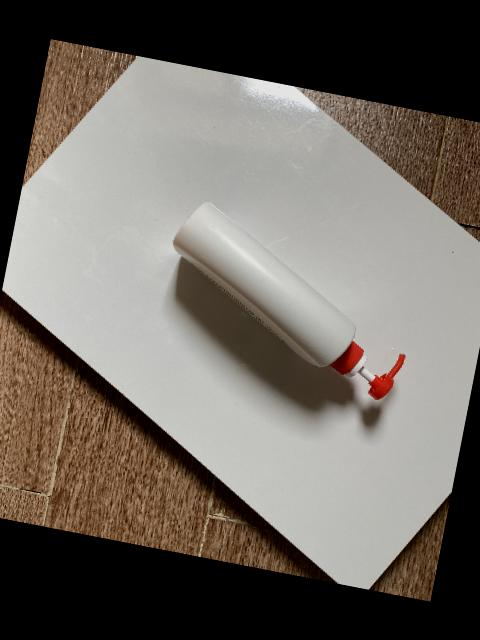life-buoy: (170, 201, 405, 403)
